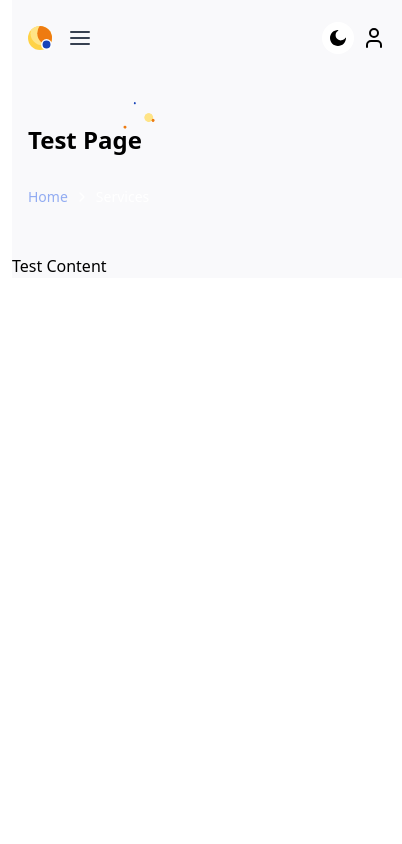
Test: PageLayout - Interactive Tests › should close mobile auth dropdown when backdrop is clicked
The image size is (402, 844).
Step 1. Click the button named "Toggle auth menu" → (374,38), box [362, 16, 386, 60]
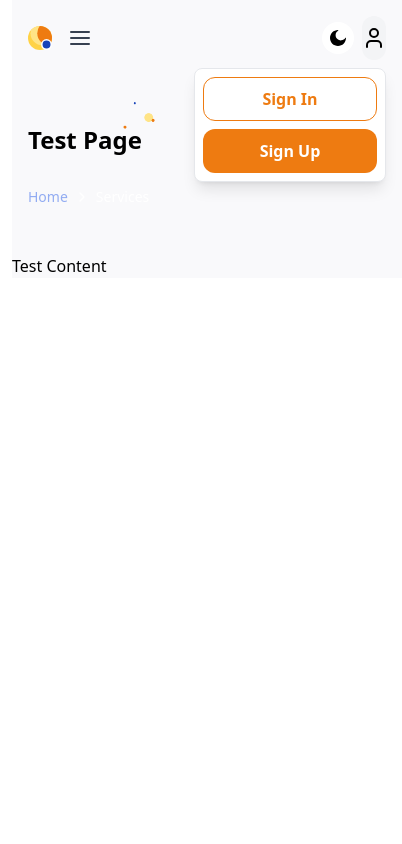
Check: the element with class "inset-0" is shown
Note: click backdrop to close
Step 2. Click the element with class "inset-0" → (207,422), box [12, 0, 401, 843]
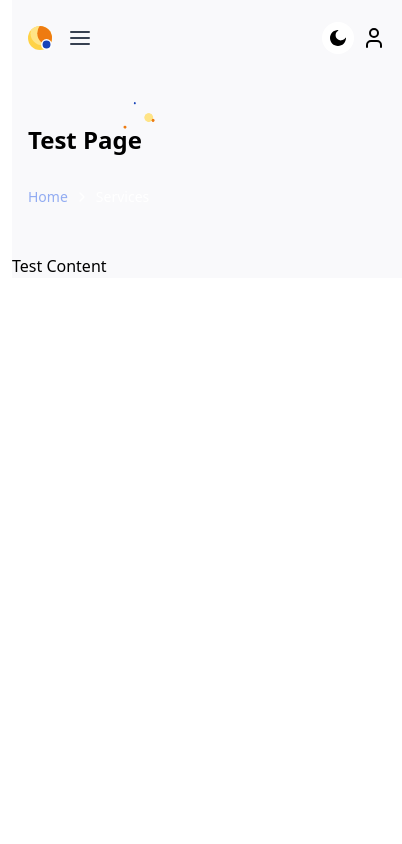
Check: the element with class "inset-0" is gone
